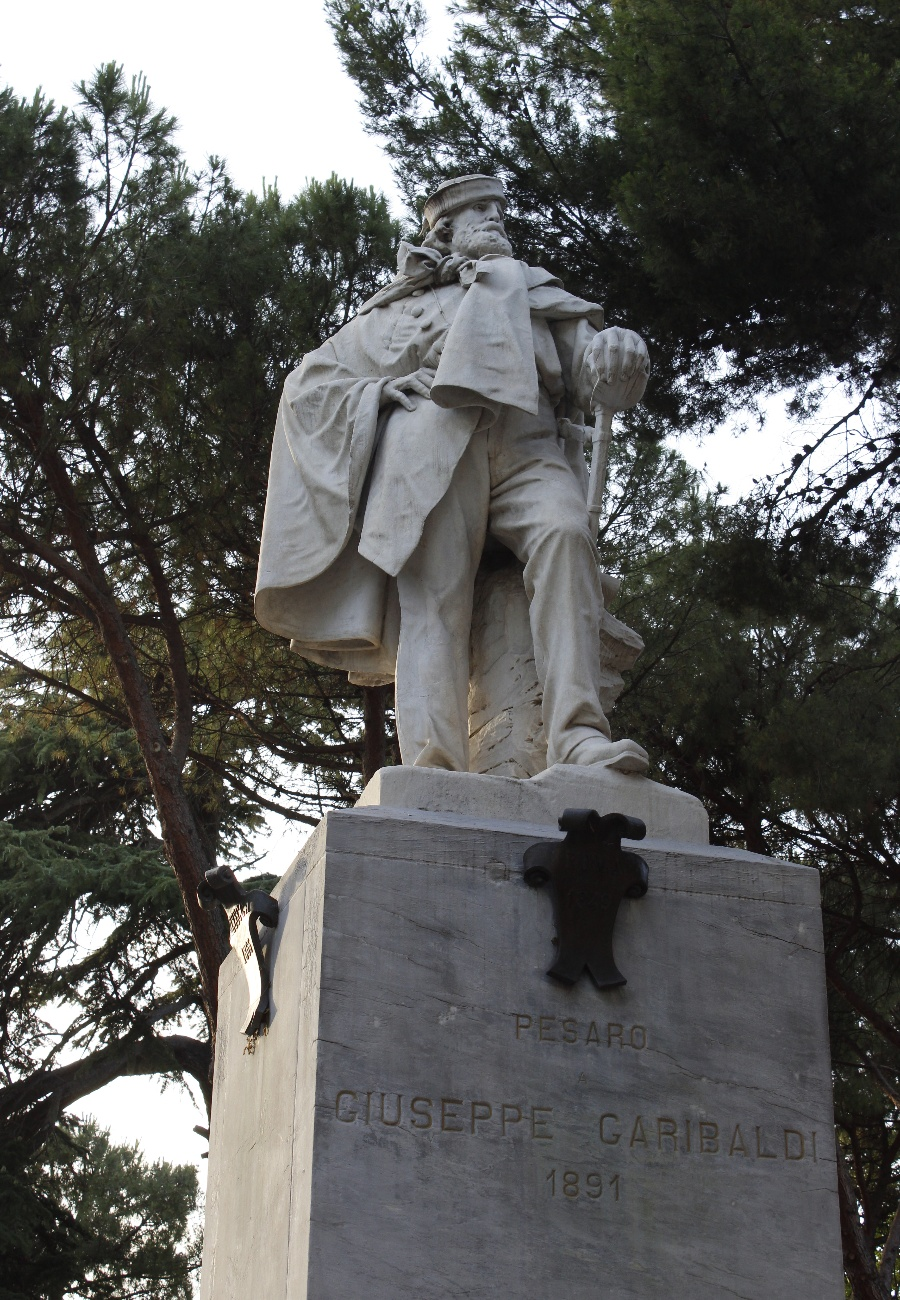Giuseppe Garibaldi: (254, 176, 653, 805)
